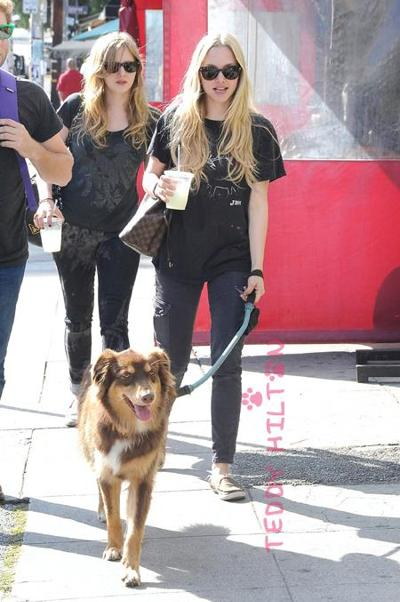person: (144, 35, 270, 503)
